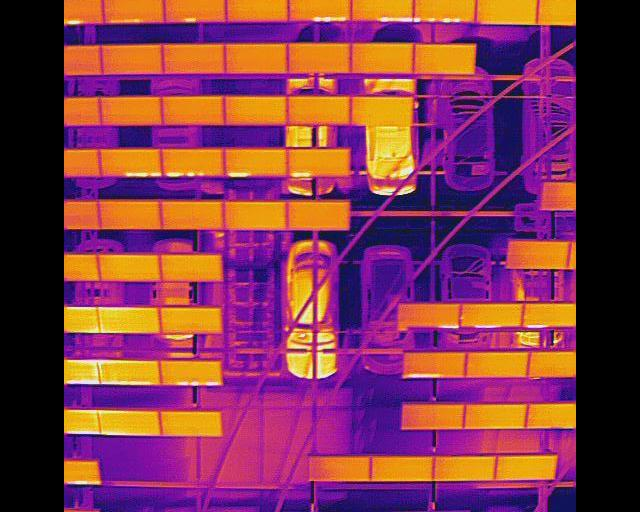Cell-Multi: (224, 147, 289, 175), (161, 148, 224, 176), (156, 359, 221, 385), (414, 0, 477, 21)
No-Anomaly: (160, 199, 226, 229), (95, 252, 163, 281), (100, 43, 163, 74), (222, 199, 289, 228), (413, 43, 476, 73), (351, 42, 414, 72), (224, 42, 287, 72), (163, 42, 226, 72), (287, 95, 352, 124), (156, 253, 225, 280), (288, 41, 350, 71), (224, 95, 288, 124), (97, 200, 161, 228), (158, 306, 224, 333), (352, 95, 413, 124), (160, 96, 225, 123), (506, 240, 570, 267), (100, 96, 164, 123), (464, 350, 527, 377), (433, 454, 497, 480), (287, 201, 351, 227), (402, 402, 465, 428), (463, 402, 528, 427), (158, 411, 223, 436), (493, 453, 557, 478), (370, 455, 434, 479), (309, 455, 370, 480), (476, 0, 539, 22), (104, 0, 165, 22), (226, 0, 289, 21)
Unclassified: (95, 305, 162, 333), (287, 147, 350, 176), (99, 148, 164, 176), (402, 350, 466, 377), (95, 360, 163, 385), (398, 302, 461, 328), (462, 301, 524, 327), (97, 408, 160, 433), (162, 0, 227, 21), (286, 0, 351, 20), (524, 301, 575, 326), (351, 0, 414, 20)
